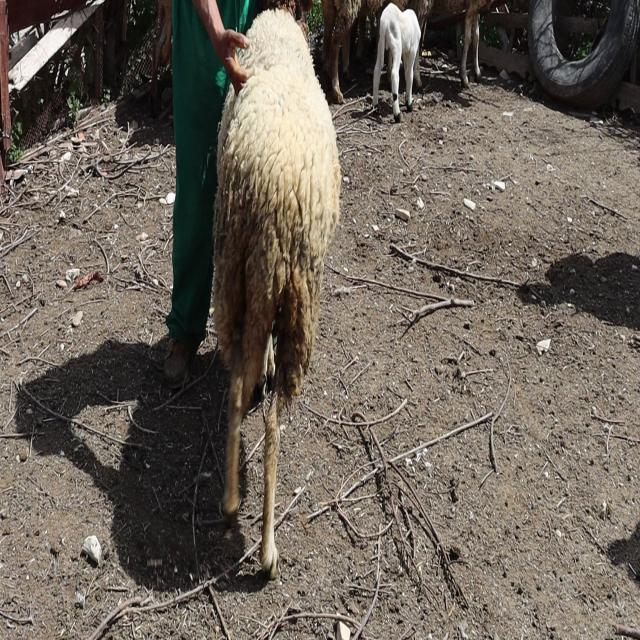Score_3: (213, 0, 341, 579)
